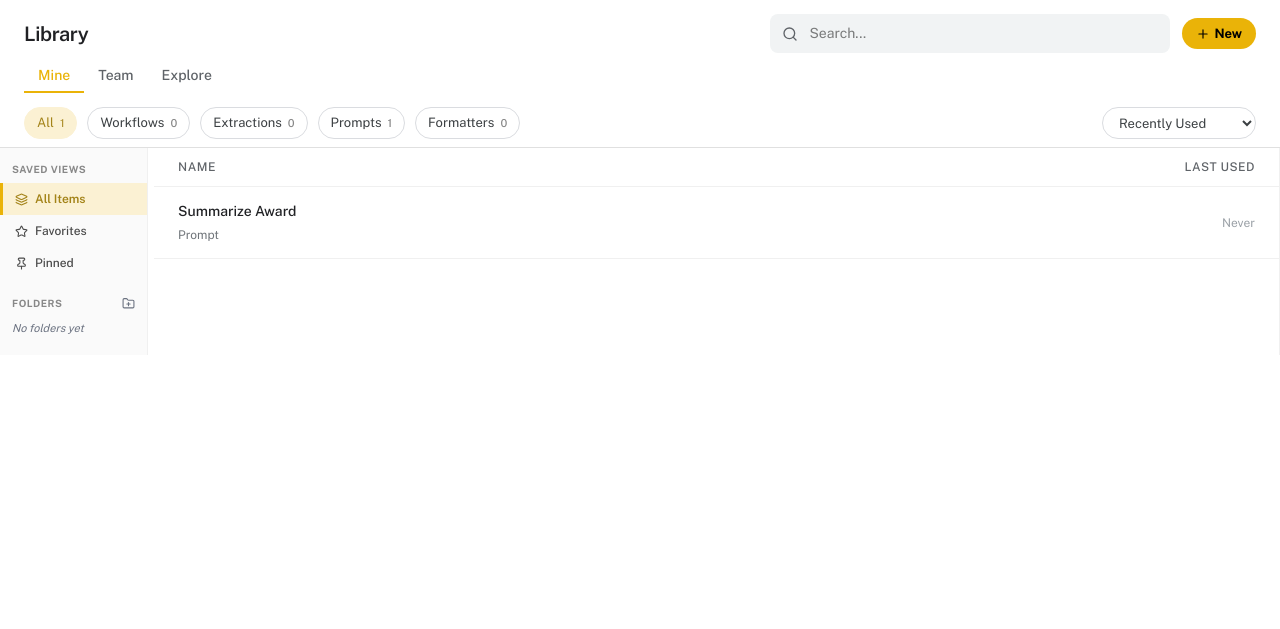
it: LibraryTab prompt preview › switches to the edit form from the preview Edit button
Step 1. Click the text "Summarize Award" → (237, 211), box x1=178 y1=203 x2=296 y2=219
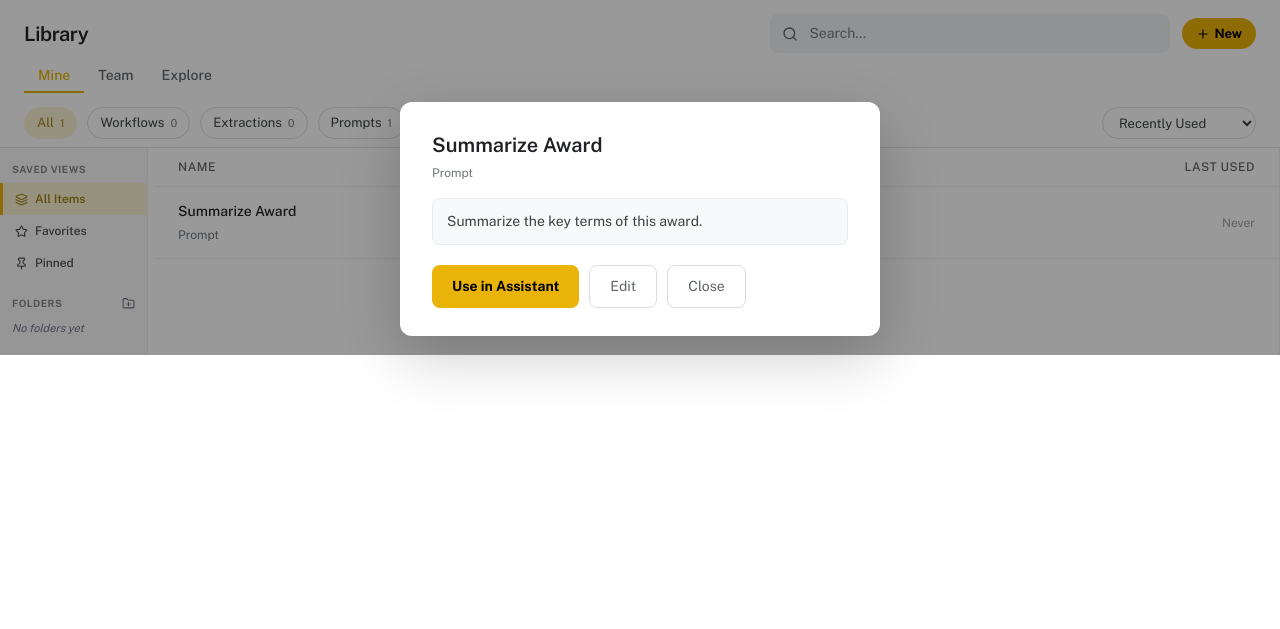
Check: the text "Summarize the key terms of this award." is shown, box x1=432 y1=198 x2=848 y2=245
Step 2. Click the button "Edit" → (623, 287), box x1=589 y1=265 x2=657 y2=308
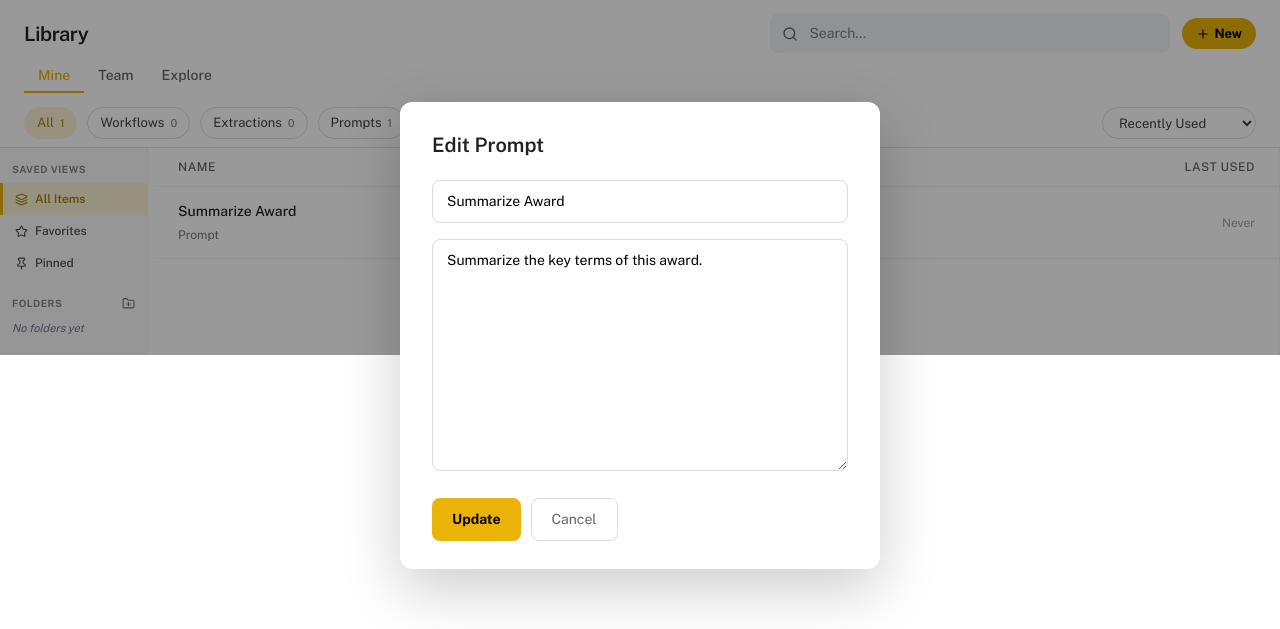
Check: the heading "Edit Prompt" is shown, box x1=432 y1=133 x2=544 y2=157
Check: the text box with placeholder "Write your prompt here" holds "Summarize the key terms of this award.", box x1=432 y1=239 x2=848 y2=471
